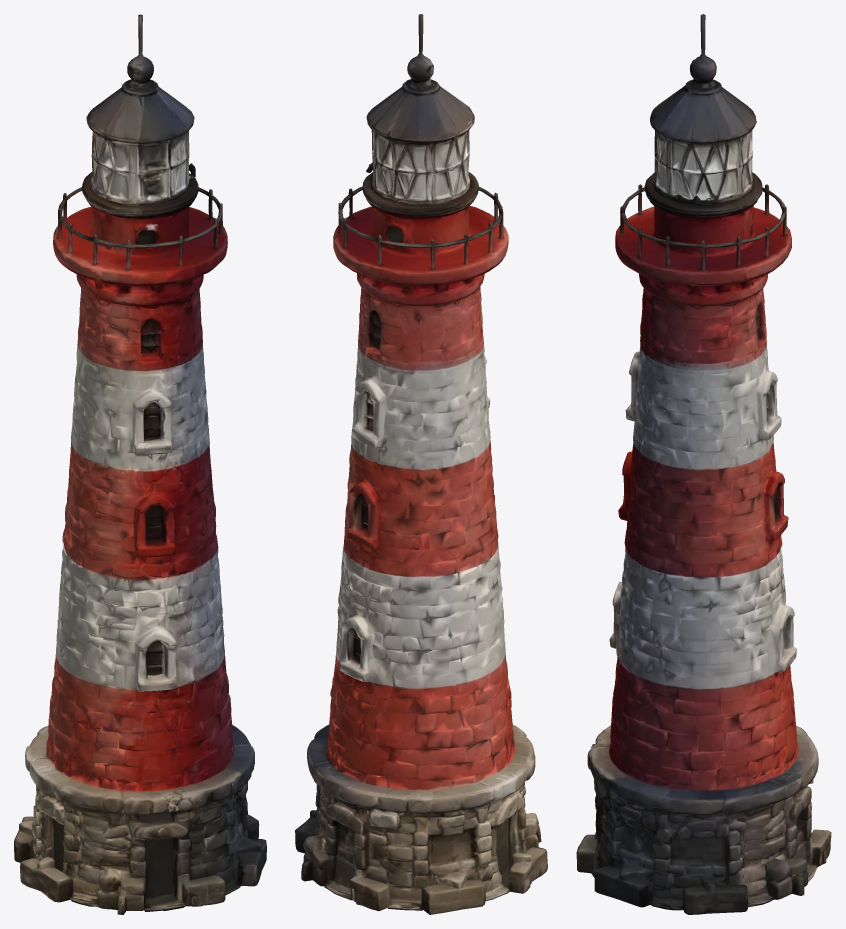
Rendered from lighthouse_from_storm-proof.glb.
The picture shows the model from 3 angles, left to right: view 1: azimuth 30°, elevation 25°; view 2: azimuth 150°, elevation 25°; view 3: azimuth 270°, elevation 25°; orthographic projection.
Visible parts, largest first — view 1: tripo_node_7f9be02b-ae99-42e5-8901-5e3d39b8990f; view 2: tripo_node_7f9be02b-ae99-42e5-8901-5e3d39b8990f; view 3: tripo_node_7f9be02b-ae99-42e5-8901-5e3d39b8990f.
Boxes of the visible parts, x1,y1,x2,y2 form: tripo_node_7f9be02b-ae99-42e5-8901-5e3d39b8990f: (14,14,266,914); tripo_node_7f9be02b-ae99-42e5-8901-5e3d39b8990f: (295,14,547,914); tripo_node_7f9be02b-ae99-42e5-8901-5e3d39b8990f: (576,14,831,914).
Bounding box in the file's own units: 0.2686 × 0.9818 × 0.2668.
Materials: 1 (1 with a texture image).
